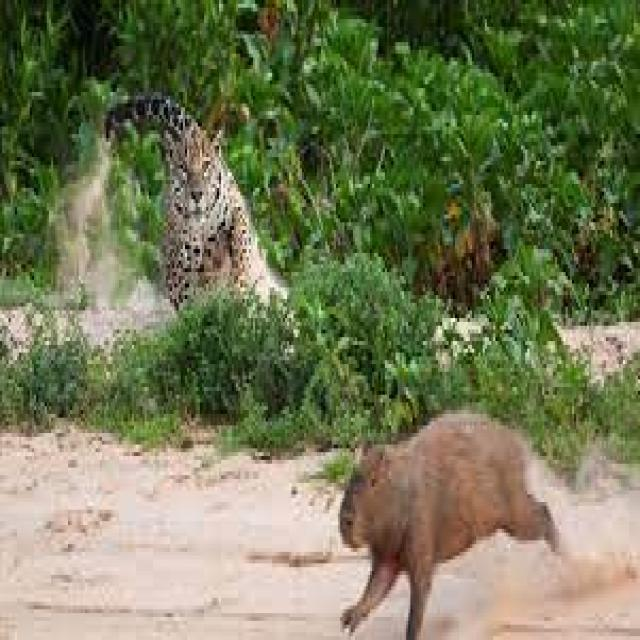capy: (337, 410, 566, 640)
